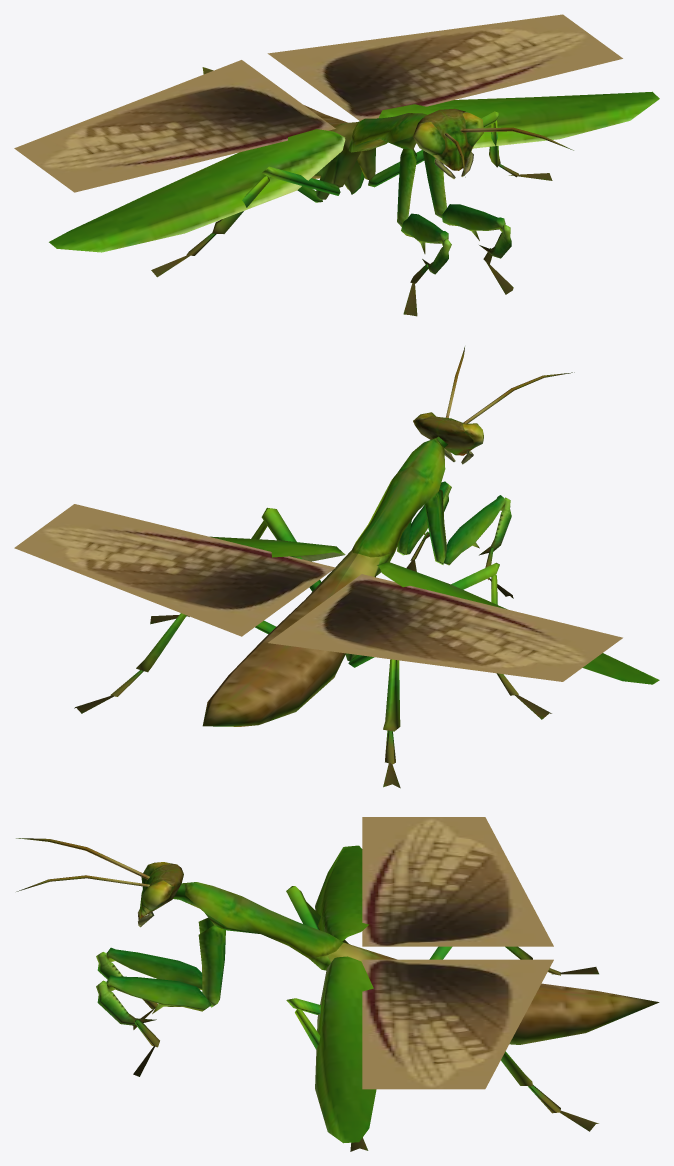
Rendered from mantis.glb.
3 views of the same model, one above another, from view 1: azimuth 30°, elevation 25°; view 2: azimuth 150°, elevation 25°; view 3: azimuth 270°, elevation 25° (orthographic).
Visible parts, largest first — view 1: InsectKamakiri_node16, InsectKamakiri_node15; view 2: InsectKamakiri_node16, InsectKamakiri_node15; view 3: InsectKamakiri_node16, InsectKamakiri_node15.
Part boxes in pixels (bbox=[...]): InsectKamakiri_node16: bbox=[14, 14, 622, 192]; InsectKamakiri_node15: bbox=[49, 67, 659, 316]; InsectKamakiri_node16: bbox=[14, 504, 622, 681]; InsectKamakiri_node15: bbox=[74, 347, 659, 788]; InsectKamakiri_node16: bbox=[362, 817, 553, 1089]; InsectKamakiri_node15: bbox=[16, 838, 659, 1151].
Size of the model in its own units: 7.63 by 2.31 by 6.95.
Materials: 2 (2 with a texture image).
